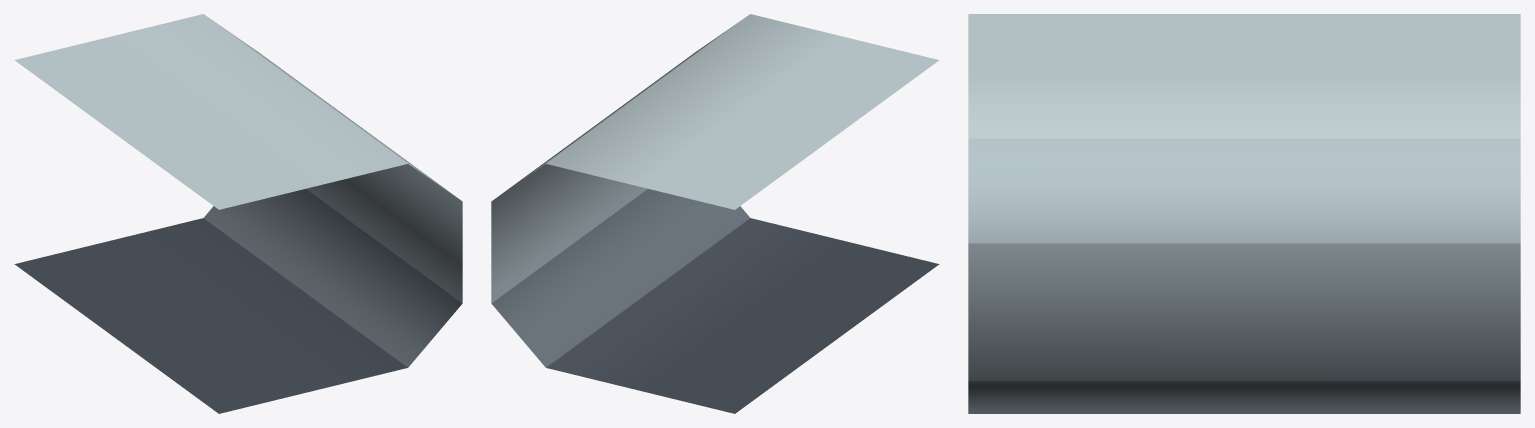
File: snow_top_1x1_tile_right.fbx
3 renders of one model, left to right at view 1: azimuth 30°, elevation 25°; view 2: azimuth 150°, elevation 25°; view 3: azimuth 270°, elevation 25°, orthographic. The views are drawn at different scales.
Visible parts, largest first — view 1: snow_top_1x1_tile_right; view 2: snow_top_1x1_tile_right; view 3: snow_top_1x1_tile_right.
Part boxes in pixels (x1,y1,x2,y2): snow_top_1x1_tile_right: (14,14,462,413); snow_top_1x1_tile_right: (491,14,939,413); snow_top_1x1_tile_right: (968,14,1520,413).
Size of the model in its own units: 68.72 by 55 by 100.
1 material, 1 textured.
